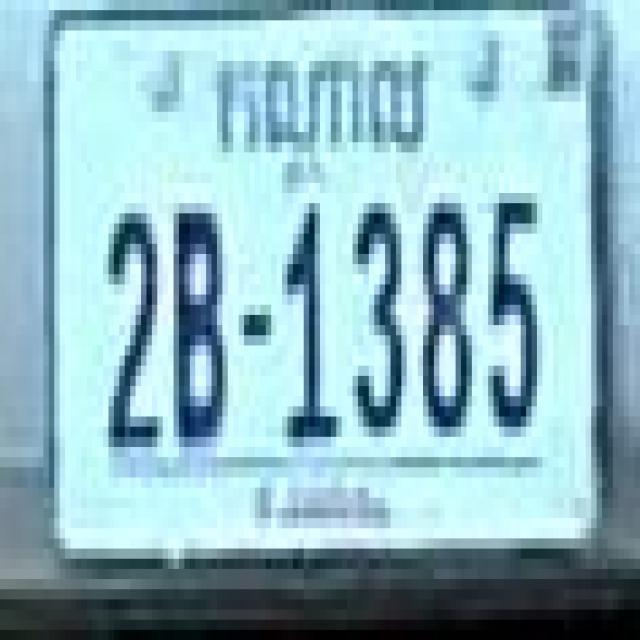Kandal: (217, 51, 430, 190)
